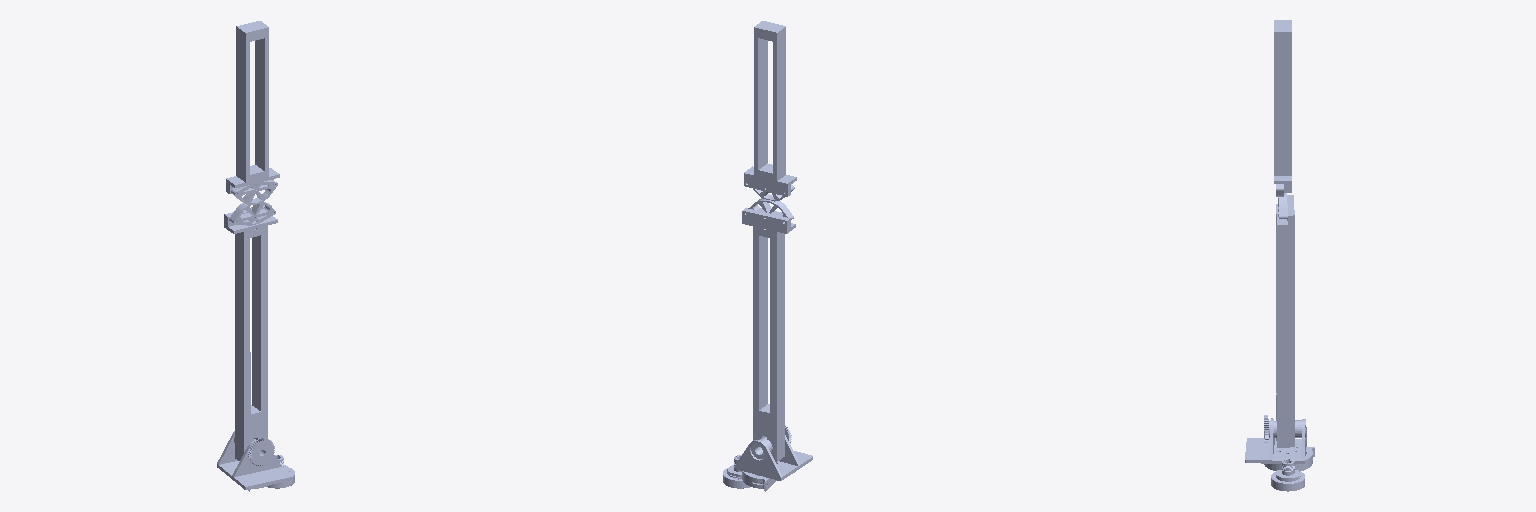
robot.urdf — robotic_arm_1:
<?xml version="1.0" encoding="utf-8"?>
<!-- This URDF was automatically created by SolidWorks to URDF Exporter! Originally created by [author] ([email redacted]) 
     Commit Version: 1.6.0-4-g7f85cfe  Build Version: 1.6.7995.38578
     For more information, please see http://wiki.ros.org/sw_urdf_exporter -->
<robot
  name="robotic_arm_1">
  <link
    name="arm_base_link">
    <inertial>
      <origin
        xyz="-0.00010245634218275 2.45859996157774E-06 0.0214724928778274"
        rpy="0 0 0" />
      <mass
        value="0.252551886669556" />
      <inertia
        ixx="0.000150902038596133"
        ixy="-2.88436689650817E-09"
        ixz="4.39682919984636E-07"
        iyy="0.000150053189033015"
        iyz="-3.07792916448405E-09"
        izz="0.000253108560055644" />
    </inertial>
    <visual>
      <origin
        xyz="0 0 0"
        rpy="1.5708 0 0" />
      <geometry>
        <mesh
          filename="package://robotic_arm_1/meshes/arm_base_link.STL" />
      </geometry>
      <material
        name="">
        <color
          rgba="0.792156862745098 0.819607843137255 0.933333333333333 1" />
      </material>
    </visual>
    <collision>
      <origin
        xyz="0 0 0"
        rpy="0 0 0" />
      <geometry>
        <mesh
          filename="package://robotic_arm_1/meshes/arm_base_link.STL" />
      </geometry>
    </collision>
  </link>
  <link
    name="Capstan_arm_link">
    <inertial>
      <origin
        xyz="0.0070643032220165 -0.0122764637999162 0.0362543103918512"
        rpy="0 0 0" />
      <mass
        value="0.709466626058235" />
      <inertia
        ixx="0.00165051336508958"
        ixy="2.46957606770886E-05"
        ixz="4.63627043374479E-06"
        iyy="0.00111101449924064"
        iyz="-0.000105517085889965"
        izz="0.00236018957372939" />
    </inertial>
    <visual>
      <origin
        xyz="0.09 0 -0.06"
        rpy="1.5708 0 -1.5708" />
      <geometry>
        <mesh
          filename="package://robotic_arm_1/meshes/Capstan_arm_link.STL" />
      </geometry>
      <material
        name="">
        <color
          rgba="0.792156862745098 0.819607843137255 0.933333333333333 1" />
      </material>
    </visual>
    <collision>
      <origin
        xyz="0 0 0"
        rpy="0 0 0" />
      <geometry>
        <mesh
          filename="package://robotic_arm_1/meshes/Capstan_arm_link.STL" />
      </geometry>
    </collision>
  </link>
  <joint
    name="Joint_1_Capstan"
    type="revolute">
    <origin
      xyz="-0.08825 0 0.0435"
      rpy="0 0 -0.045315" />
    <parent
      link="arm_base_link" />
    <child
      link="Capstan_arm_link" />
    <axis
      xyz="0 0 -1" />
    <limit
      lower="-1.4"
      upper="1.4"
      effort="36"
      velocity="0.2" />
  </joint>
  <link
    name="arm_link_1">
    <inertial>
      <origin
        xyz="-1.90466102472087E-05 -0.00074067503085362 0.312950666881576"
        rpy="0 0 0" />
      <mass
        value="2.02559987896371" />
      <inertia
        ixx="0.0122955056364337"
        ixy="1.37460312510447E-05"
        ixz="-9.58057581347945E-07"
        iyy="0.012829700926555"
        iyz="-3.72564629302058E-05"
        izz="0.00154118844811022" />
    </inertial>
    <visual>
      <origin
        xyz="0.09 0 -0.16"
        rpy="1.5708 0 -1.5708" />
      <geometry>
        <mesh
          filename="package://robotic_arm_1/meshes/arm_link_1.STL" />
      </geometry>
      <material
        name="">
        <color
          rgba="0.792156862745098 0.819607843137255 0.933333333333333 1" />
      </material>
    </visual>
    <collision>
      <origin
        xyz="0 0 0"
        rpy="0 0 0" />
      <geometry>
        <mesh
          filename="package://robotic_arm_1/meshes/arm_link_1.STL" />
      </geometry>
    </collision>
  </link>
  <joint
    name="arm_link_1"
    type="revolute">
    <origin
      xyz="0.0001812 -0.0039959 0.104"
      rpy="0 0 0.071024" />
    <parent
      link="Capstan_arm_link" />
    <child
      link="arm_link_1" />
    <axis
      xyz="-0.025707 -0.99967 0" />
    <limit
      lower="-0.5"
      upper="1.4"
      effort="25"
      velocity="0.1" />
  </joint>
  <link
    name="arm_link_2">
    <inertial>
      <origin
        xyz="-3.23352455922077E-15 0.00799925604693499 0.246348425307334"
        rpy="0 0 0" />
      <mass
        value="1.03057802437217" />
      <inertia
        ixx="0.00633876312594691"
        ixy="-4.16173532851258E-19"
        ixz="-5.83484875325359E-19"
        iyy="0.00713091971056394"
        iyz="6.36398687437939E-05"
        izz="0.00119228700277233" />
    </inertial>
    <visual>
      <origin
        xyz="0.091 0 -0.9"
        rpy="1.5708 0 -1.5708" />
      <geometry>
        <mesh
          filename="package://robotic_arm_1/meshes/arm_link_2.STL" />
      </geometry>
      <material
        name="">
        <color
          rgba="0.792156862745098 0.819607843137255 0.933333333333333 1" />
      </material>
    </visual>
    <collision>
      <origin
        xyz="0 0 0"
        rpy="0 0 0" />
      <geometry>
        <mesh
          filename="package://robotic_arm_1/meshes/arm_link_2.STL" />
      </geometry>
    </collision>
  </link>
  <joint
    name="arm_link_2"
    type="revolute">
    <origin
      xyz="-0.0001928 -0.0074975 0.73665"
      rpy="0 0 -0.02571" />
    <parent
      link="arm_link_1" />
    <child
      link="arm_link_2" />
    <axis
      xyz="0 -1 0" />
    <limit
      lower="-1.4"
      upper="1.4"
      effort="12"
      velocity="0.15" />
  </joint>
</robot>

--- What the picture shows (computed from the rendered views, not written in the file) ---
3 views of the same robot in one strip: view 1: azimuth 30°, elevation 25°; view 2: azimuth 150°, elevation 25°; view 3: azimuth 270°, elevation 25° (orthographic).
Robot: robotic_arm_1 — 4 links, 3 joints (3 revolute); root link arm_base_link; default pose: every joint at zero.
Visible links, largest first — view 1: arm_link_1, arm_link_2, Capstan_arm_link; view 2: arm_link_1, arm_link_2, Capstan_arm_link; view 3: arm_link_1, arm_link_2, Capstan_arm_link, arm_base_link.
Boxes of the visible links, x1,y1,x2,y2 form: arm_link_1: (224, 202, 277, 465); arm_link_2: (226, 21, 279, 204); Capstan_arm_link: (217, 431, 293, 491); arm_link_1: (742, 198, 795, 462); arm_link_2: (744, 21, 796, 201); Capstan_arm_link: (735, 435, 812, 491); arm_link_1: (1264, 193, 1305, 447); arm_link_2: (1274, 20, 1291, 196); Capstan_arm_link: (1245, 418, 1314, 471); arm_base_link: (1271, 459, 1304, 491).
Bounding box of the posed robot: 0.2156 × 0.1999 × 1.39 m (x, y, z).
Meshes: 4 distinct files referenced, 4 mesh visuals loaded (4 binary STL).